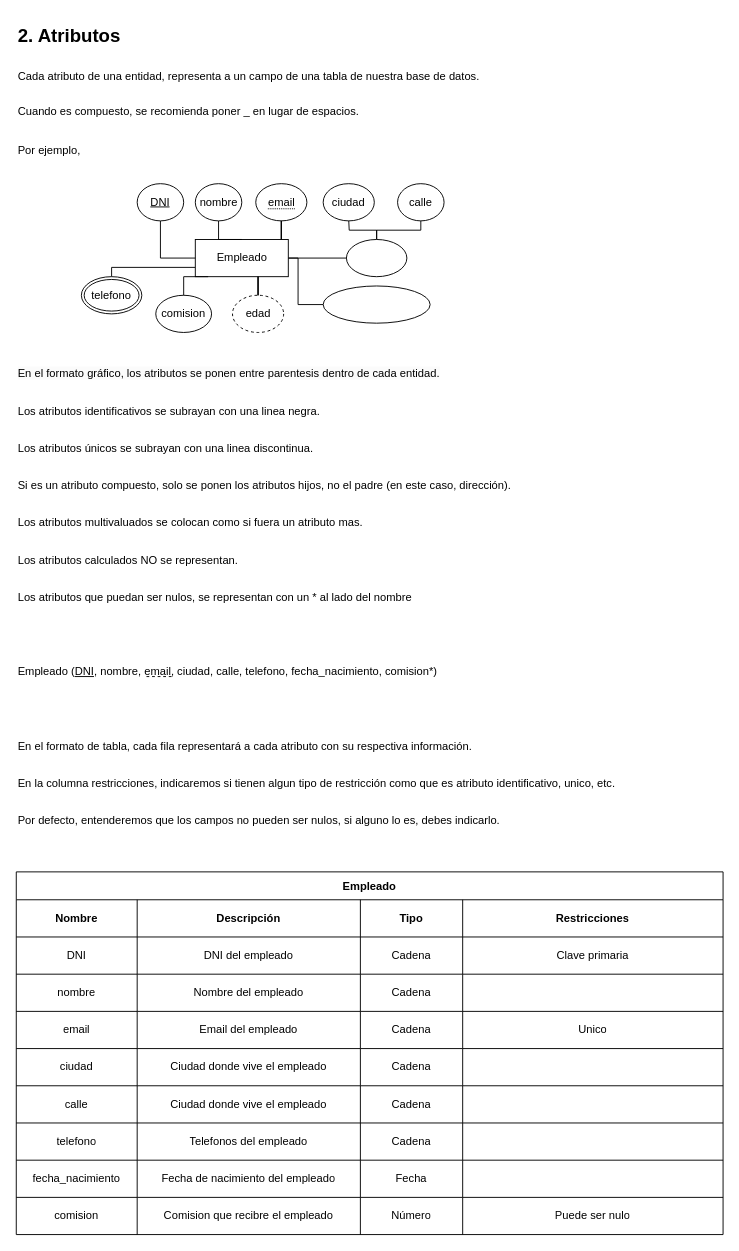
Some shapes in this 739 by 1251 pixel diagram are drawn without their labels. The shapes that lost their labels are listed below. From the top down, each one's centre as x and y in pixels, then its label:
pixel 376 258: direccion
pixel 376 304: fecha nacimiento
